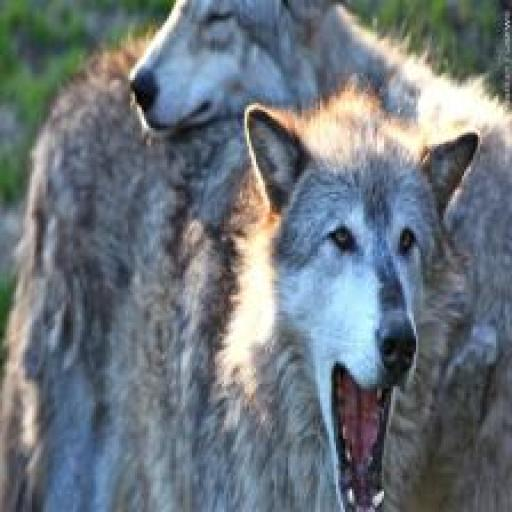wolf: (6, 61, 484, 512), (121, 0, 512, 149)
